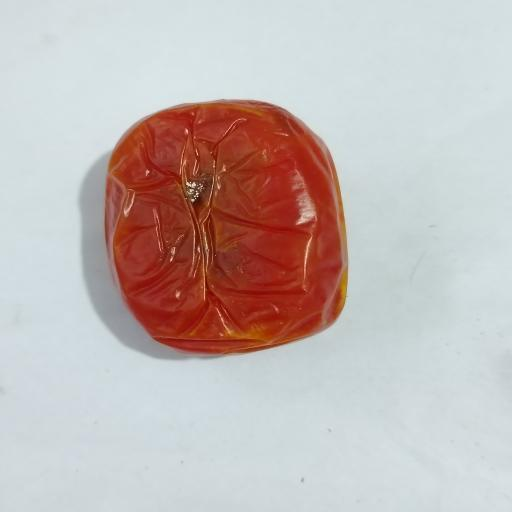spoiled: (105, 101, 347, 354)
